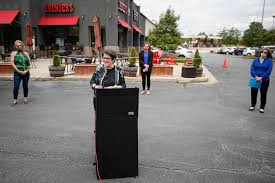Good: (138, 40, 275, 115), (8, 38, 127, 88), (88, 42, 155, 87)
